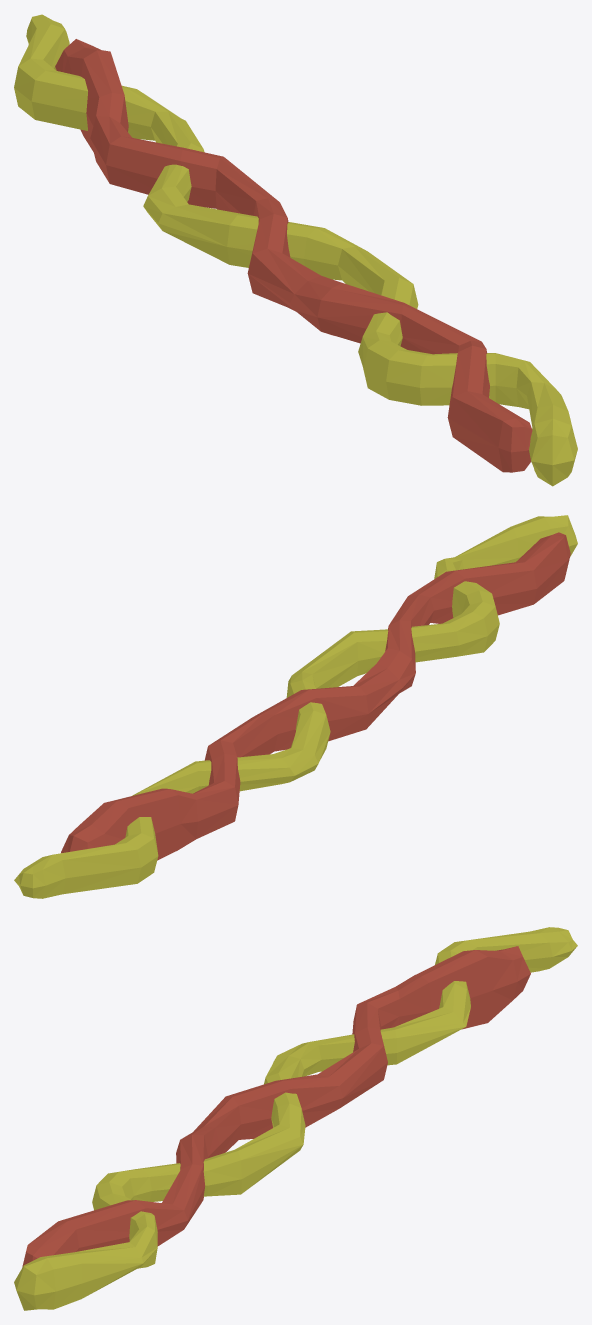
The model's file is KetchupMustard.glb.
3 views of the same model, one above another, from view 1: azimuth 30°, elevation 25°; view 2: azimuth 150°, elevation 25°; view 3: azimuth 330°, elevation 25° (orthographic). The views are drawn at different scales.
Visible parts, largest first — view 1: KetchupMustard; view 2: KetchupMustard; view 3: KetchupMustard.
Part boxes in pixels (left/top/right/bottom): KetchupMustard: left=14, top=14, right=577, bottom=486; KetchupMustard: left=14, top=515, right=577, bottom=898; KetchupMustard: left=14, top=927, right=577, bottom=1310.
Bounding box in the file's own units: 0.1627 × 0.1058 × 1.28.
